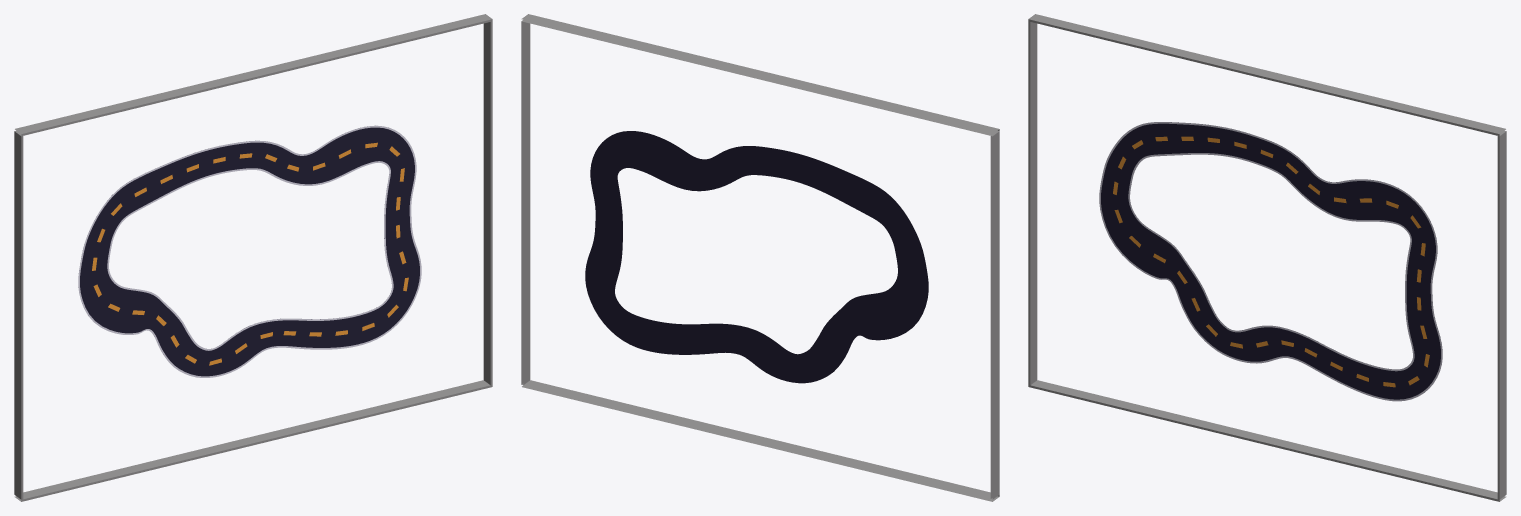
Rendered from track.obj.
The picture shows the model from 3 angles, left to right: view 1: azimuth 30°, elevation 25°; view 2: azimuth 150°, elevation 25°; view 3: azimuth 330°, elevation 25°; orthographic projection.
Bounding box in the file's own units: 11.49 × 8.57 × 0.3.
4 materials, 4 textured.
